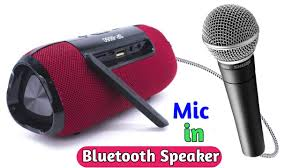microphone: (202, 2, 282, 157)
speaker: (6, 23, 181, 137)
